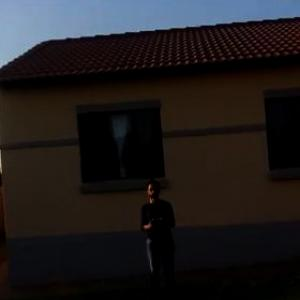follow: (136, 178, 182, 299)
